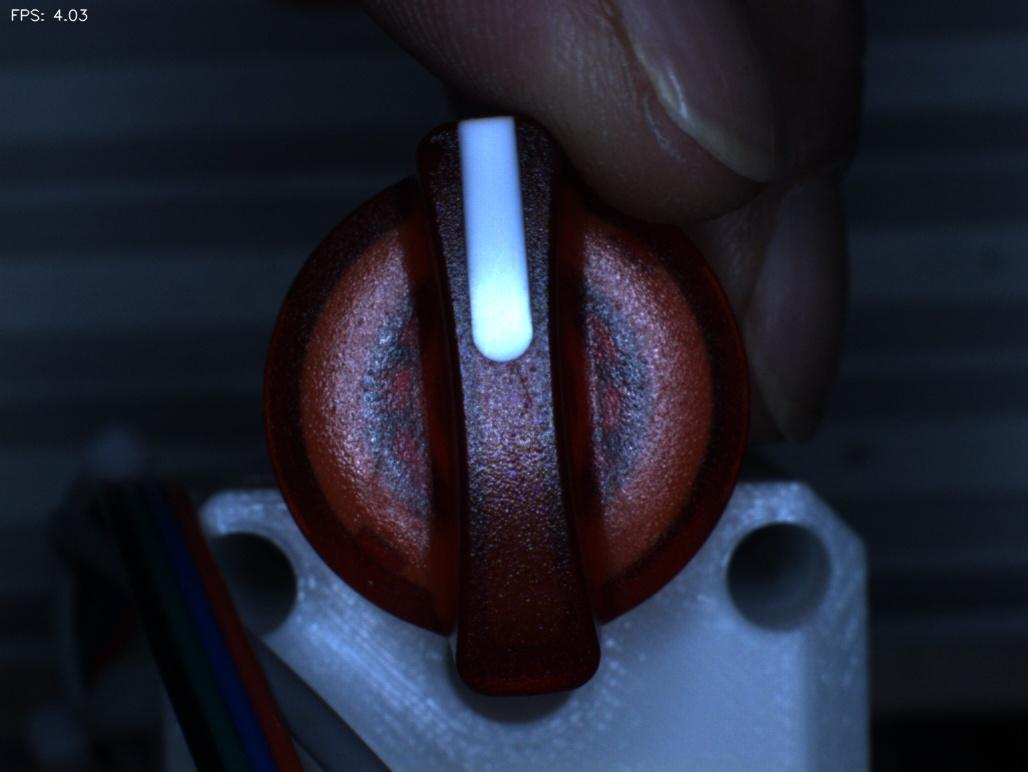Choc: (375, 100, 474, 197)
